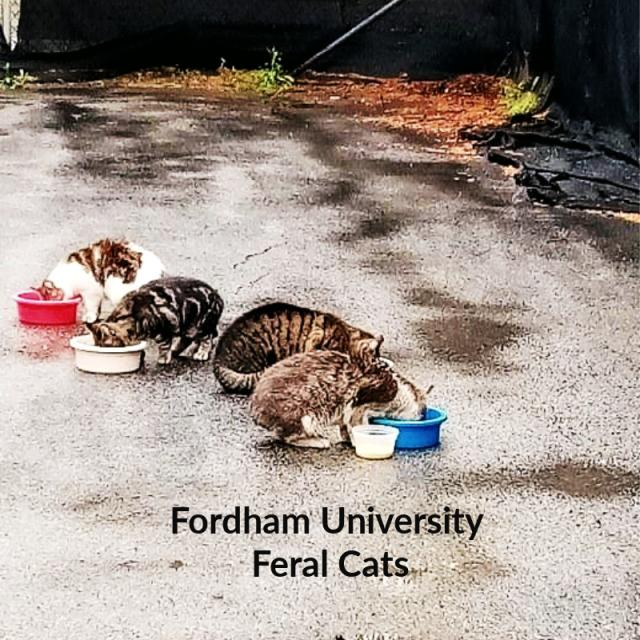cat: (214, 302, 382, 393), (250, 350, 398, 447), (88, 276, 224, 363), (35, 239, 165, 322)
